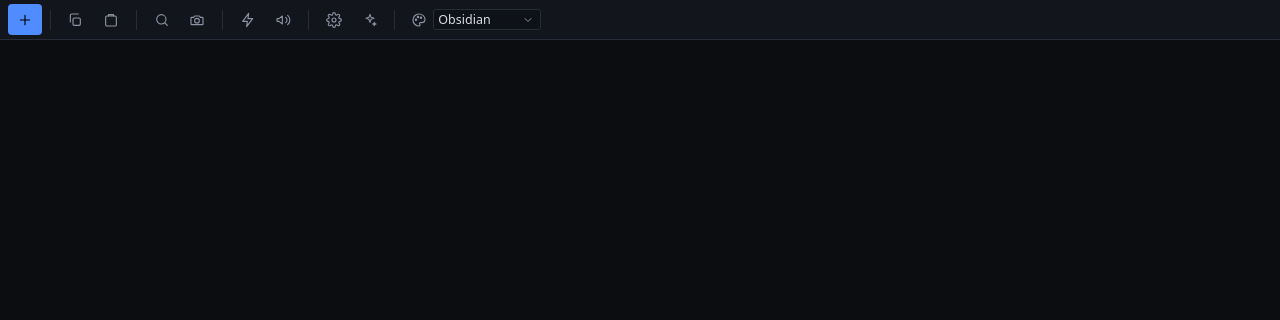
Scenario: 右键菜单：勾选显示哪些按钮（出口第 17 项） › 右键工具栏打开菜单
This screenshot has width=1280, height=320.
Right-click the element with test id "toolbar" at (640, 20), box [0,0,1279,40]
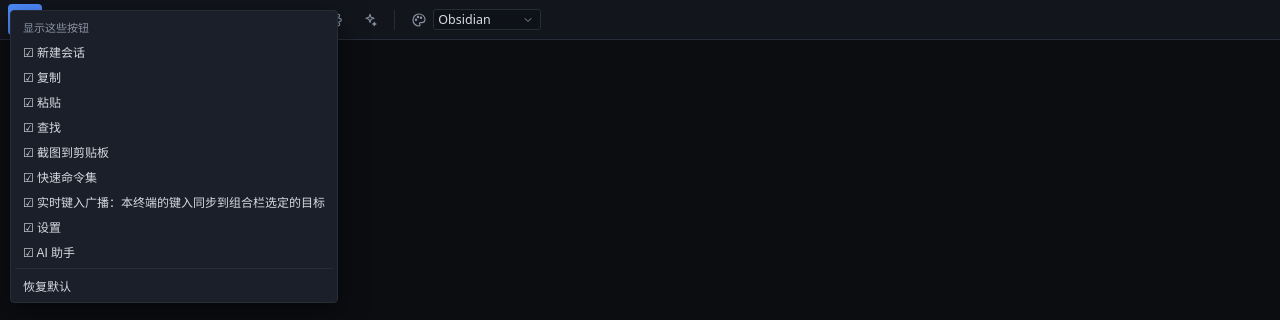
Expected: the menu with test id "toolbar-menu" is shown, [10,10,338,303]
